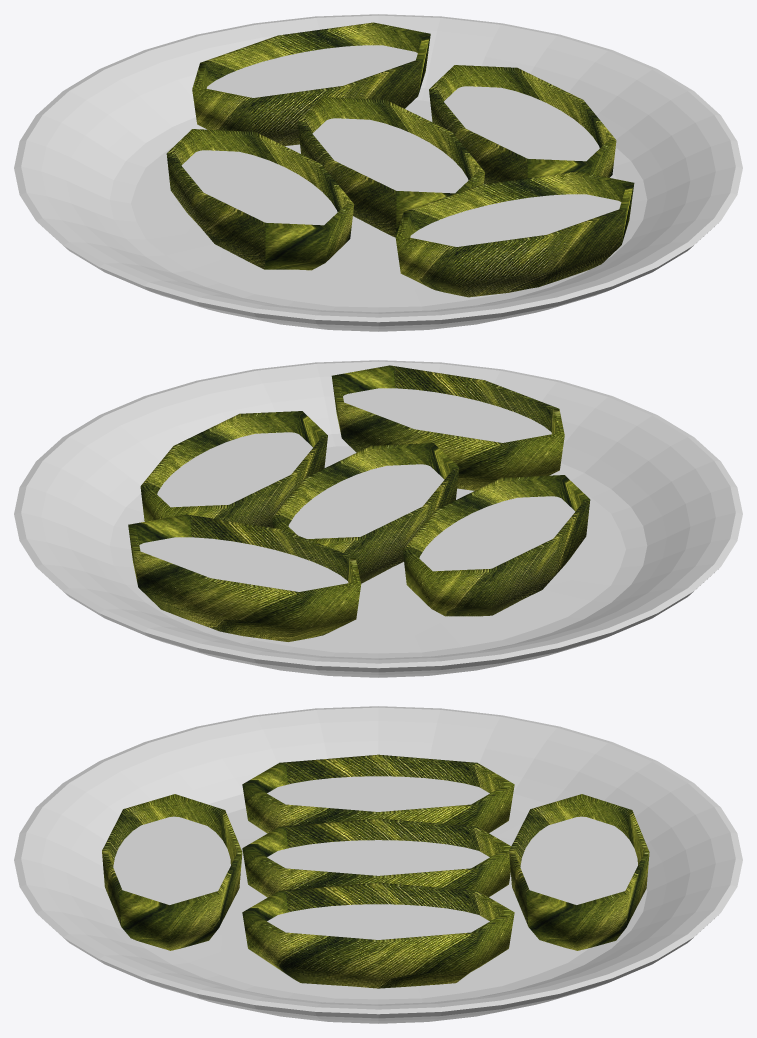
The model's file is kue jongkong.fbx.
The picture shows the model from 3 angles, top to bottom: view 1: azimuth 30°, elevation 25°; view 2: azimuth 150°, elevation 25°; view 3: azimuth 270°, elevation 25°; orthographic projection.
Parts seen in each view (by area): view 1: Cylinder, Cube.003, Cube.004, Cube.002, Cube.001, Cube, Cylinder.001, Cylinder.003, Cylinder.002, Cylinder.004, Cylinder.005; view 2: Cylinder, Cube.004, Cube.003, Cube.002, Cube.001, Cube, Cylinder.001, Cylinder.003, Cylinder.002, Cylinder.005, Cylinder.004; view 3: Cylinder, Cube, Cube.002, Cube.001, Cube.004, Cube.003, Cylinder.004, Cylinder.005, Cylinder.003, Cylinder.002, Cylinder.001.
Boxes of the visible parts, left/top/right/bottom form: Cylinder: left=14, top=14, right=742, bottom=331; Cube.003: left=395, top=171, right=634, bottom=297; Cube.004: left=192, top=22, right=430, bottom=145; Cube.002: left=166, top=129, right=354, bottom=270; Cube.001: left=297, top=97, right=484, bottom=237; Cube: left=429, top=65, right=616, bottom=183; Cylinder.001: left=444, top=86, right=599, bottom=161; Cylinder.003: left=181, top=150, right=337, bottom=225; Cylinder.002: left=312, top=118, right=468, bottom=193; Cylinder.004: left=410, top=194, right=621, bottom=246; Cylinder.005: left=206, top=45, right=417, bottom=97; Cylinder: left=14, top=360, right=742, bottom=677; Cube.004: left=128, top=514, right=361, bottom=641; Cube.003: left=331, top=365, right=564, bottom=490; Cube.002: left=402, top=475, right=590, bottom=616; Cube.001: left=272, top=443, right=459, bottom=583; Cube: left=140, top=411, right=327, bottom=527; Cylinder.001: left=157, top=432, right=312, bottom=507; Cylinder.003: left=419, top=496, right=575, bottom=571; Cylinder.002: left=288, top=464, right=444, bottom=538; Cylinder.005: left=139, top=537, right=348, bottom=591; Cylinder.004: left=343, top=388, right=551, bottom=442; Cylinder: left=14, top=706, right=742, bottom=1023; Cube: left=242, top=882, right=514, bottom=988; Cube.002: left=242, top=754, right=514, bottom=833; Cube.001: left=242, top=818, right=510, bottom=897; Cube.004: left=509, top=794, right=649, bottom=950; Cube.003: left=102, top=794, right=242, bottom=950; Cylinder.004: left=113, top=816, right=230, bottom=904; Cylinder.005: left=520, top=816, right=637, bottom=904; Cylinder.003: left=267, top=776, right=489, bottom=811; Cylinder.002: left=267, top=840, right=489, bottom=875; Cylinder.001: left=267, top=904, right=489, bottom=939.
Bounding box in the file's own units: 231 × 27.91 × 231.
